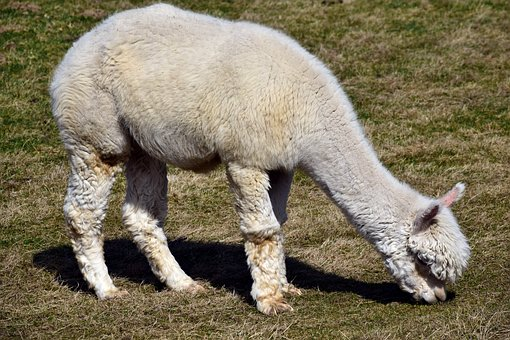alpaca: (48, 1, 472, 318)
